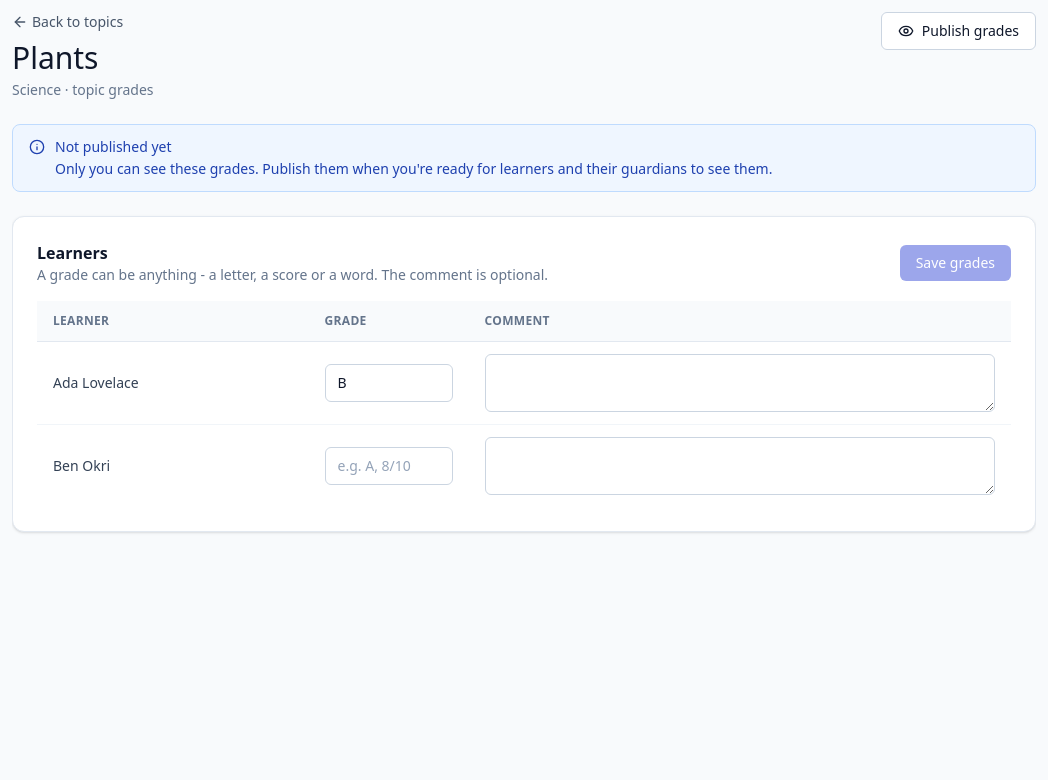
TopicGradesPage › publishes the topic's grades
Expected: the text "Not published yet" is shown, [55, 137, 172, 156]
Click the button "Publish grades" at (958, 31), box [881, 12, 1036, 50]
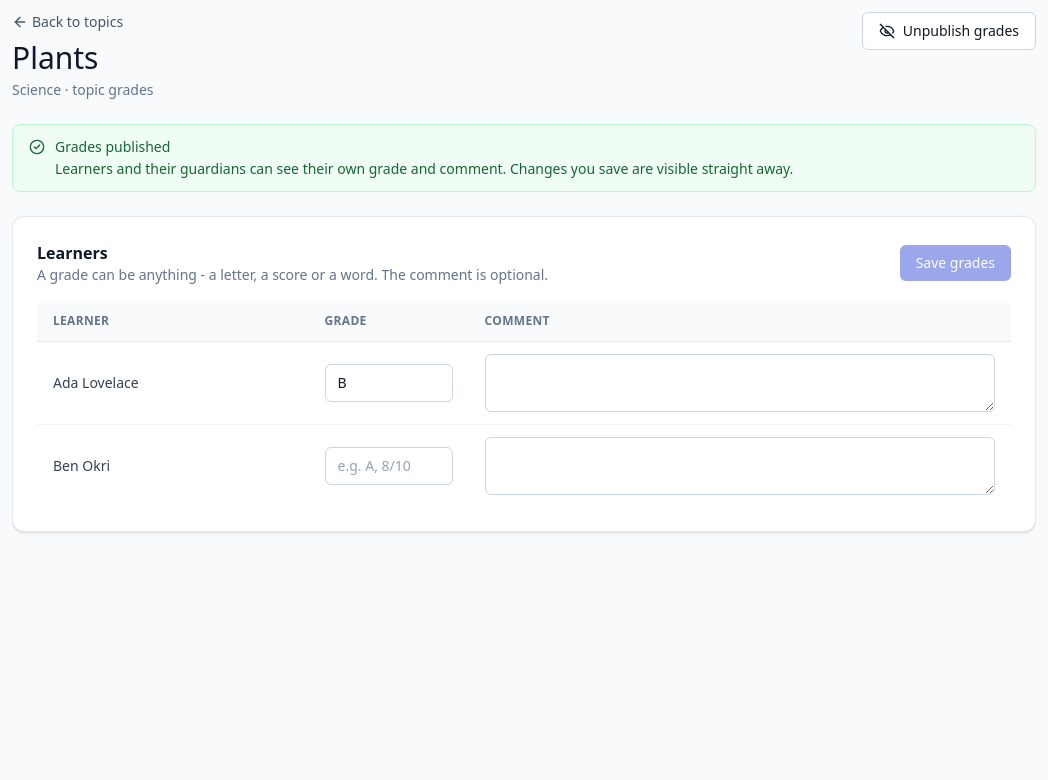
Expected: the button "Unpublish grades" is shown, [862, 12, 1036, 50]
